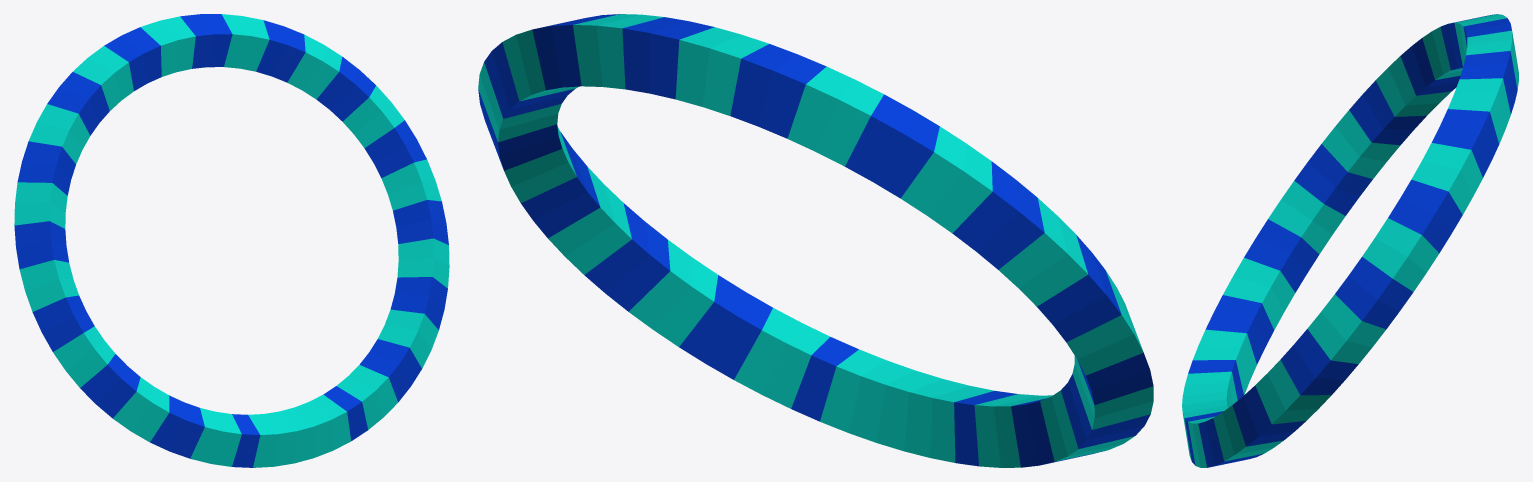
The model's file is BlueRing.fbx.
3 views of the same model, side by side, from view 1: azimuth 30°, elevation 25°; view 2: azimuth 150°, elevation 25°; view 3: azimuth 270°, elevation 25° (orthographic). The views are drawn at different scales.
Parts seen in each view (by area): view 1: Torus.001; view 2: Torus.001; view 3: Torus.001.
Part boxes in pixels (x1,y1,x2,y2): Torus.001: [14, 14, 449, 467]; Torus.001: [478, 14, 1153, 467]; Torus.001: [1182, 14, 1518, 467].
Bounding box in the file's own units: 597 × 482 × 369.
